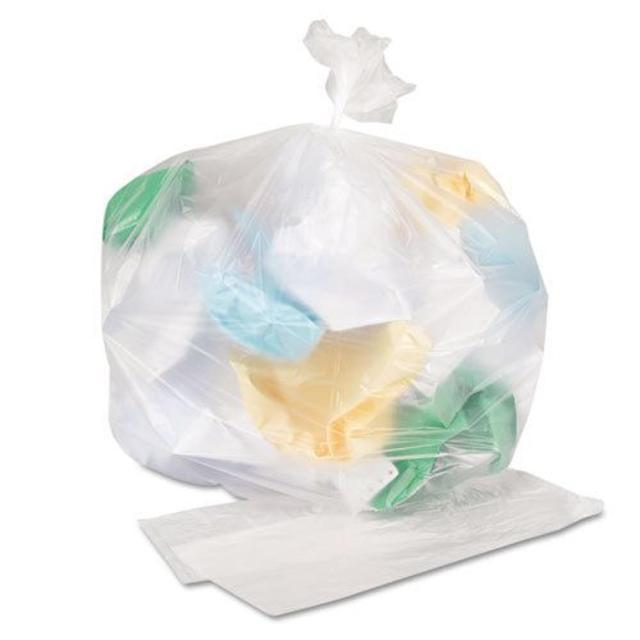Plastic_Bag: (75, 48, 555, 528)
